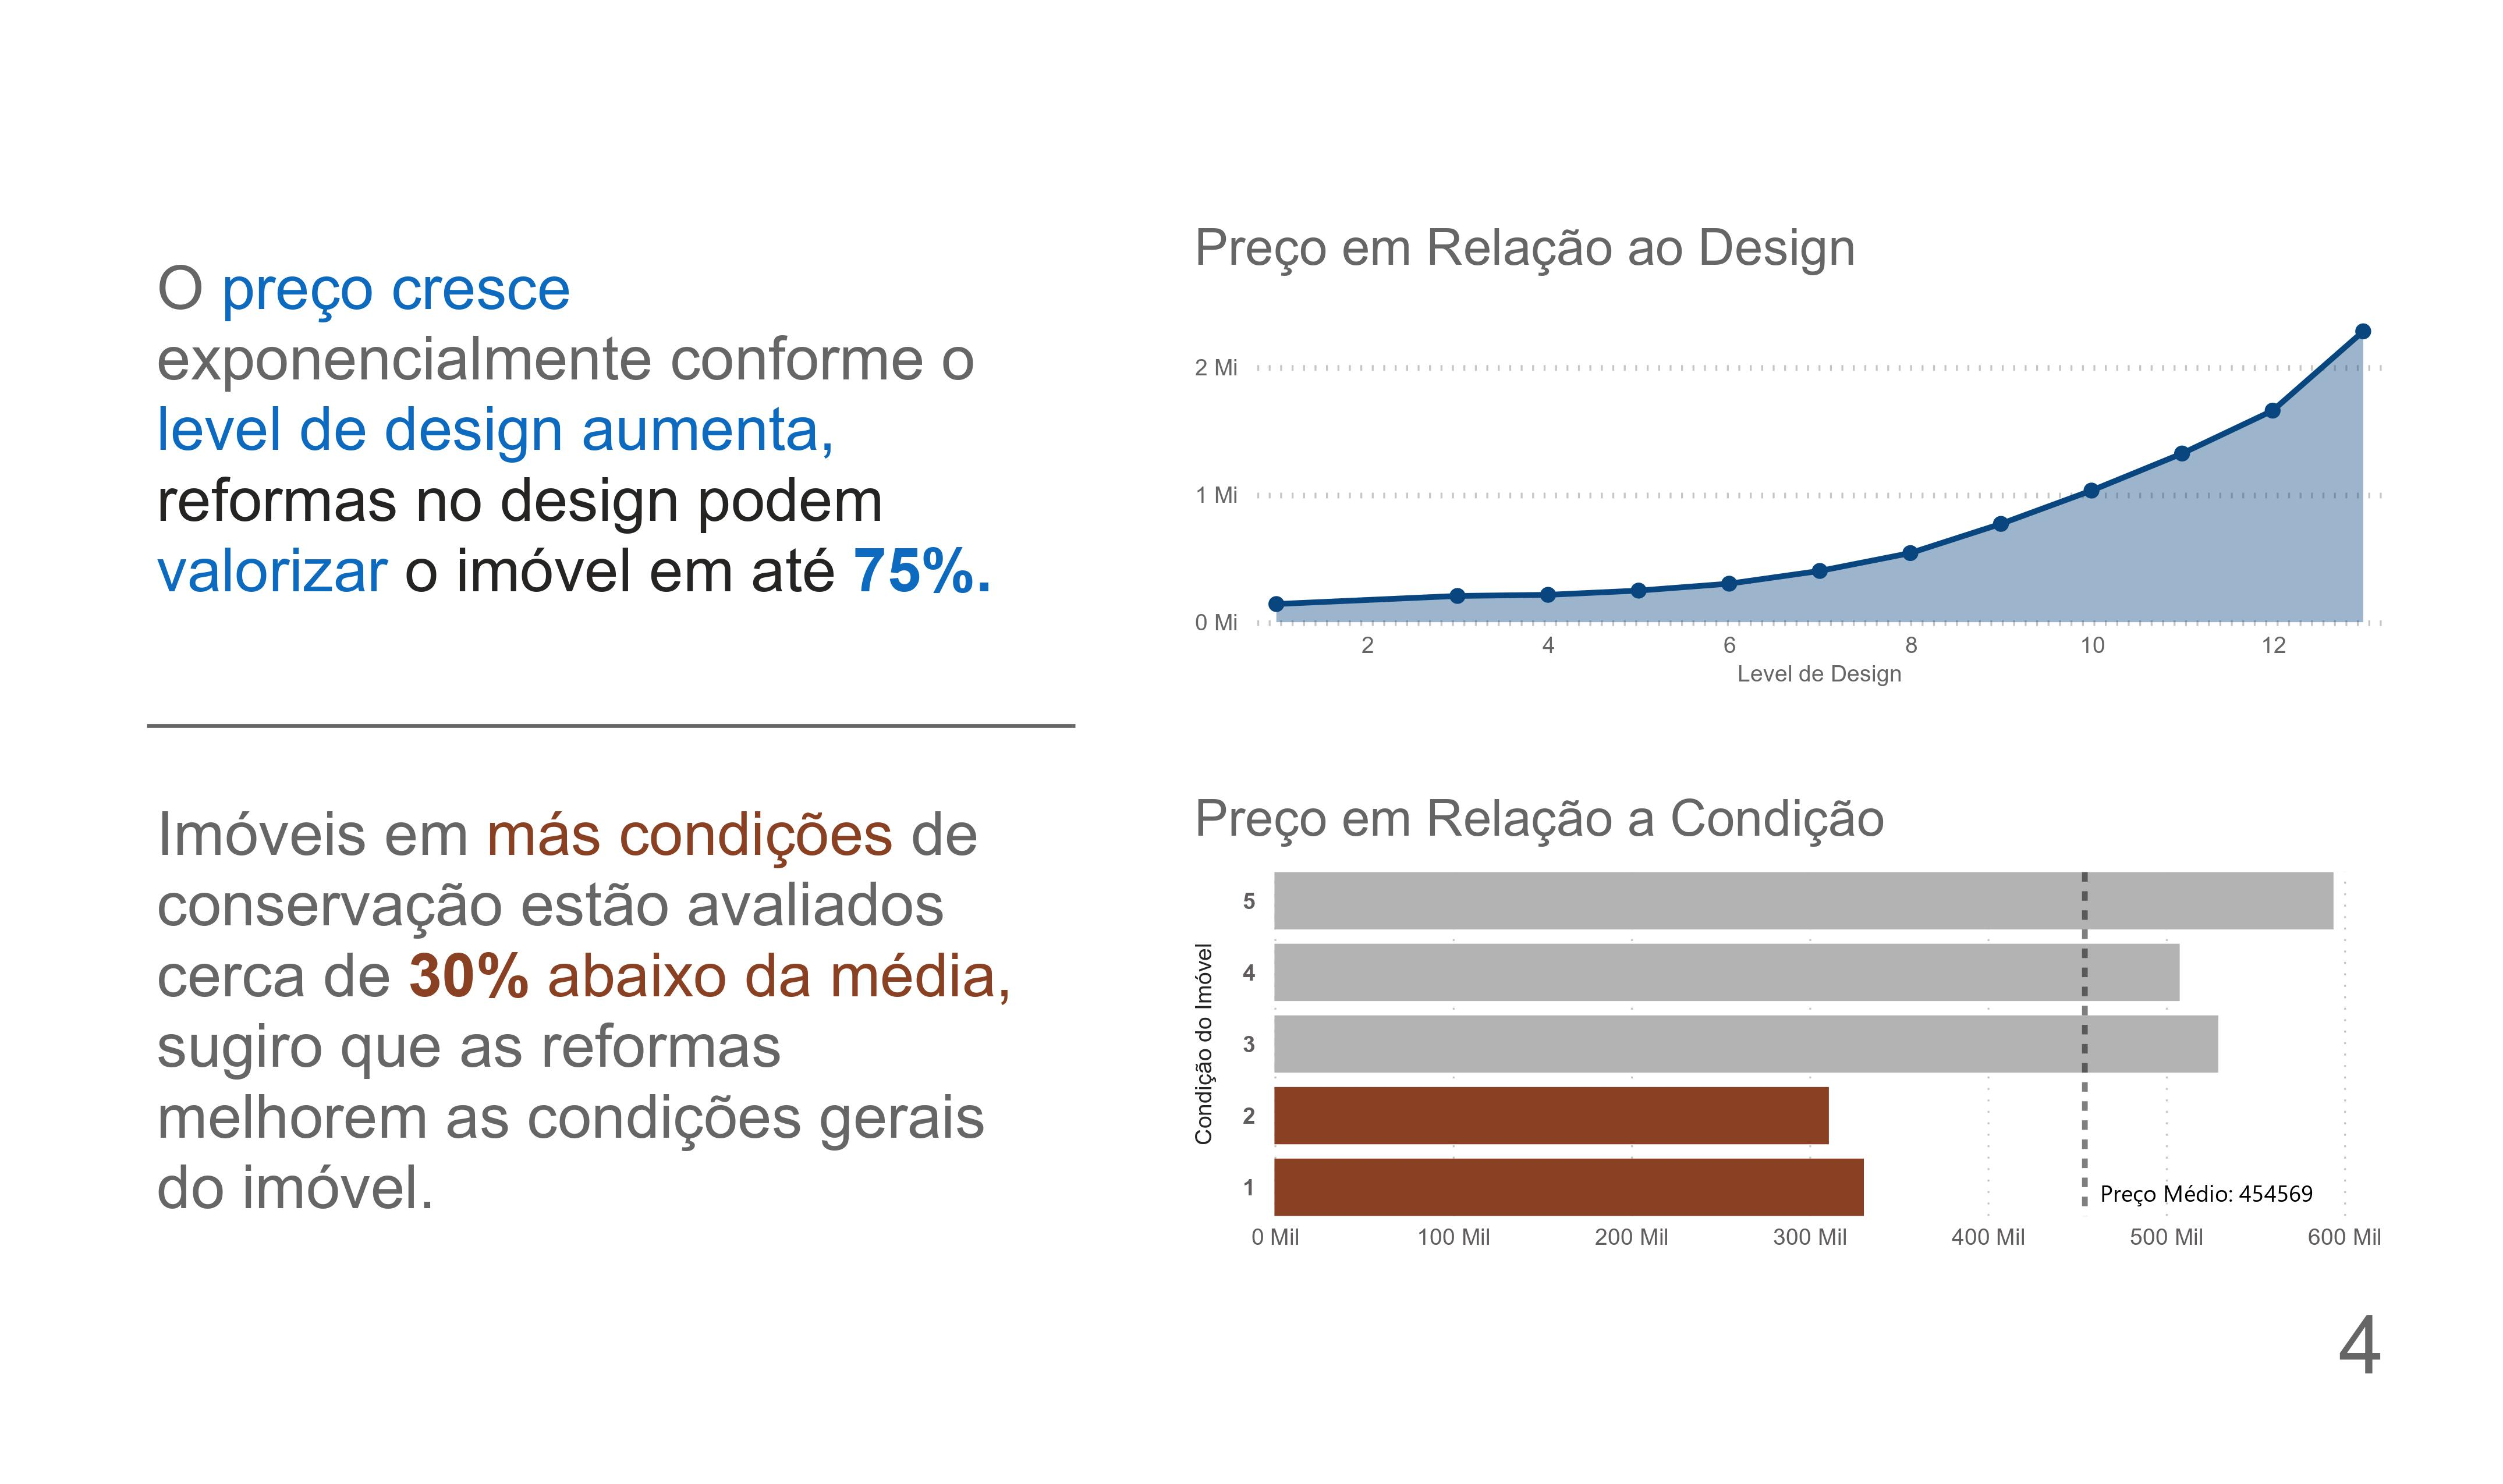

What the dashboard file says about the page in this screenshot:
{"tool":"powerbi","page":{"name":"Página 5","canvas":[1280,720],"ordinal":5},"visuals":[{"type":"areaChart","title":"Preço em Relação ao Design","fields":{"Category":["kc_house_data (2).grade"],"Y":["Avg(kc_house_data (2).price)"]},"box":[605,86.2,632.3,250.1],"z":0},{"type":"clusteredBarChart","title":"Preço em Relação a Condição","fields":{"Category":["kc_house_data (2).condition"],"Y":["Avg(kc_house_data (2).price)"]},"box":[605,384.7,632.3,250.1],"z":1000},{"type":"textbox","box":[61.8,99.2,485.7,237.1],"z":2000},{"type":"textbox","box":[61.8,384.7,485.7,294.6],"z":3000},{"type":"shape","box":[61.8,340.6,485.7,21.6],"z":4000},{"type":"textbox","box":[1204.3,646.7,63.2,58.9],"z":4001}]}

Visuals, with their boxes on the page's 1280x720 design canvas (x1, y1, x2, y2). These are canvas units, not pixel positions in the 2503x1484 screenshot, which may show the page scaled, cropped or inside an application window:
"Preço em Relação ao Design" areaChart: BBox(605, 86, 1237, 336)
"Preço em Relação a Condição" clusteredBarChart: BBox(605, 385, 1237, 635)
textbox: BBox(62, 99, 548, 336)
textbox: BBox(62, 385, 548, 679)
shape: BBox(62, 341, 548, 362)
textbox: BBox(1204, 647, 1268, 706)
